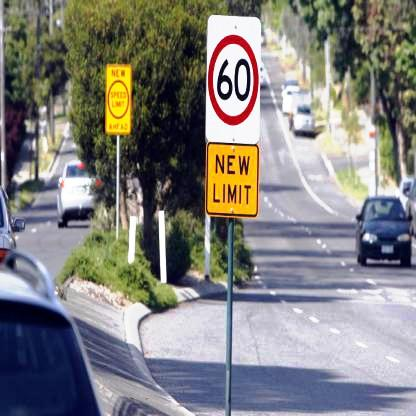Speed Limit -60-: (208, 33, 261, 126)
